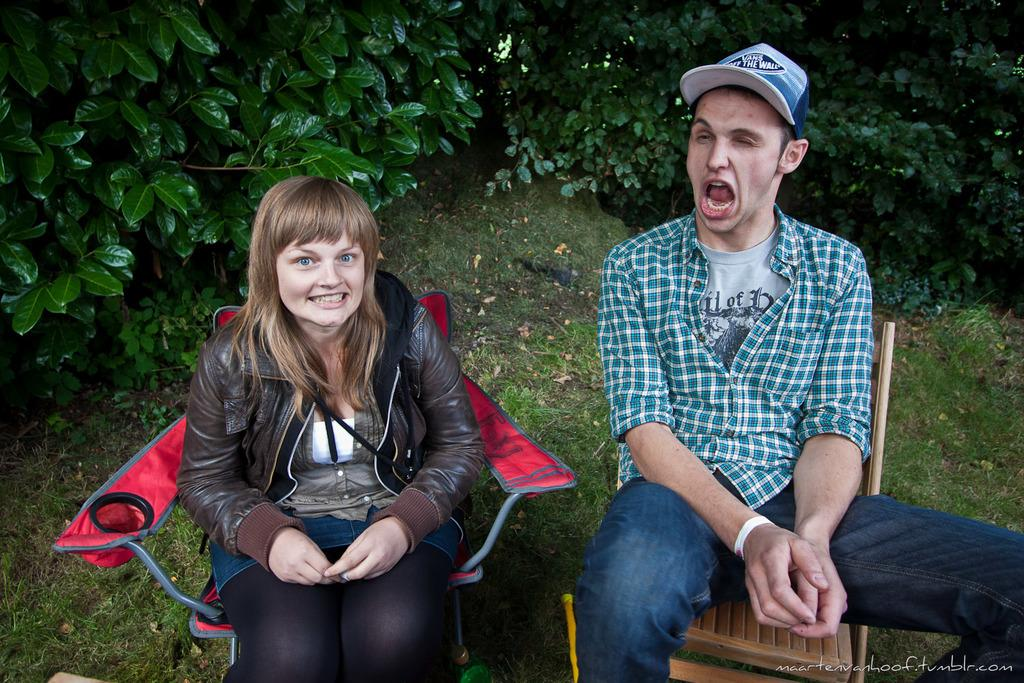Hat: (679, 37, 815, 143)
